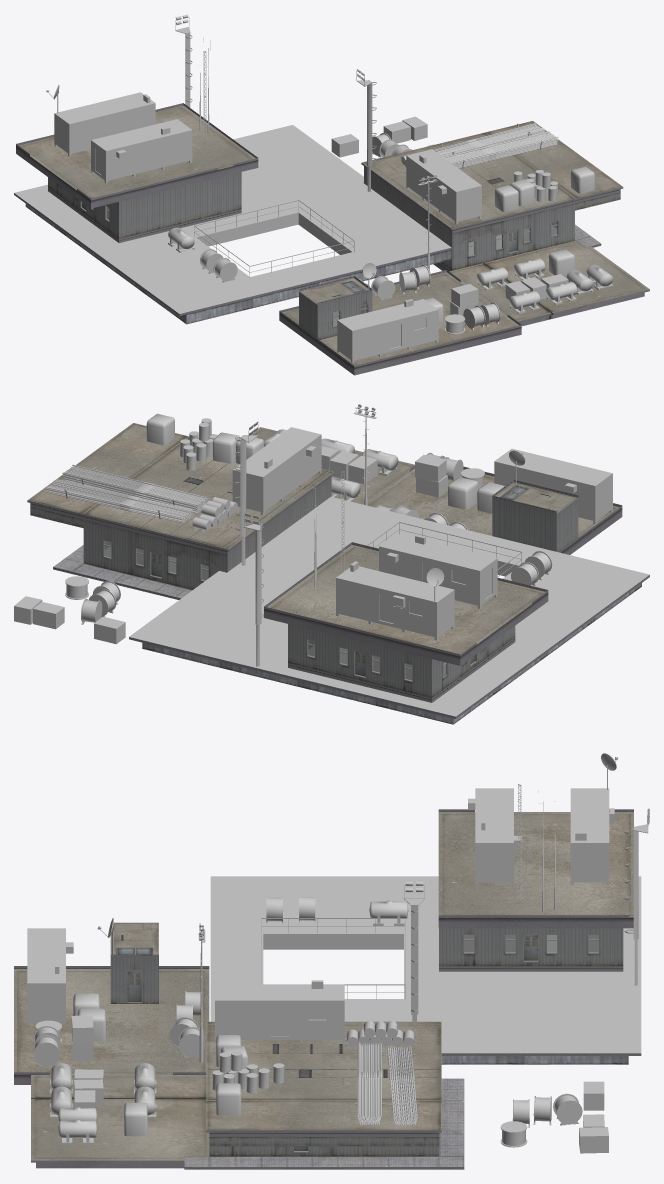
File: oilRig_upperDeck_AST.fbx
3 renders of one model, top to bottom at view 1: azimuth 30°, elevation 25°; view 2: azimuth 150°, elevation 25°; view 3: azimuth 270°, elevation 25°, orthographic. The views are drawn at different scales.
Parts seen in each view (by area): view 1: upperDeck; view 2: upperDeck; view 3: upperDeck.
Boxes of the visible parts, <box> form: upperDeck: <box>14,14,649,375</box>; upperDeck: <box>14,404,649,724</box>; upperDeck: <box>14,753,649,1169</box>.
Bounding box in the file's own units: 4579 × 1732 × 4379.
